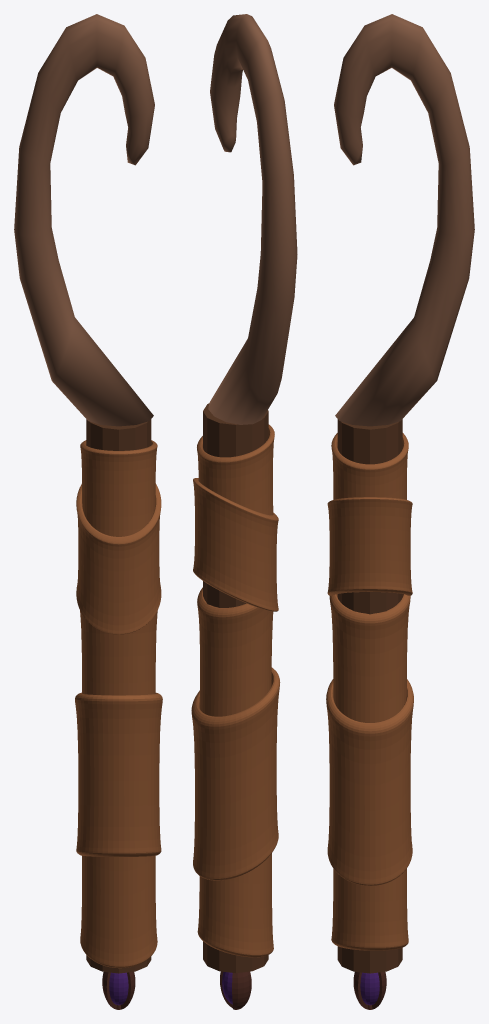
Rendered from Wand 387.glb.
3 views of the same model, side by side, from view 1: azimuth 90°, elevation 25°; view 2: azimuth 210°, elevation 25°; view 3: azimuth 270°, elevation 25° (orthographic).
Visible parts, largest first — view 1: GeneratedWand; view 2: GeneratedWand; view 3: GeneratedWand.
Part boxes in pixels (bbox=[...]): GeneratedWand: bbox=[14, 14, 162, 1009]; GeneratedWand: bbox=[191, 14, 297, 1009]; GeneratedWand: bbox=[326, 14, 474, 1009].
Size of the model in its own units: 0.0408 by 0.5095 by 0.069.
